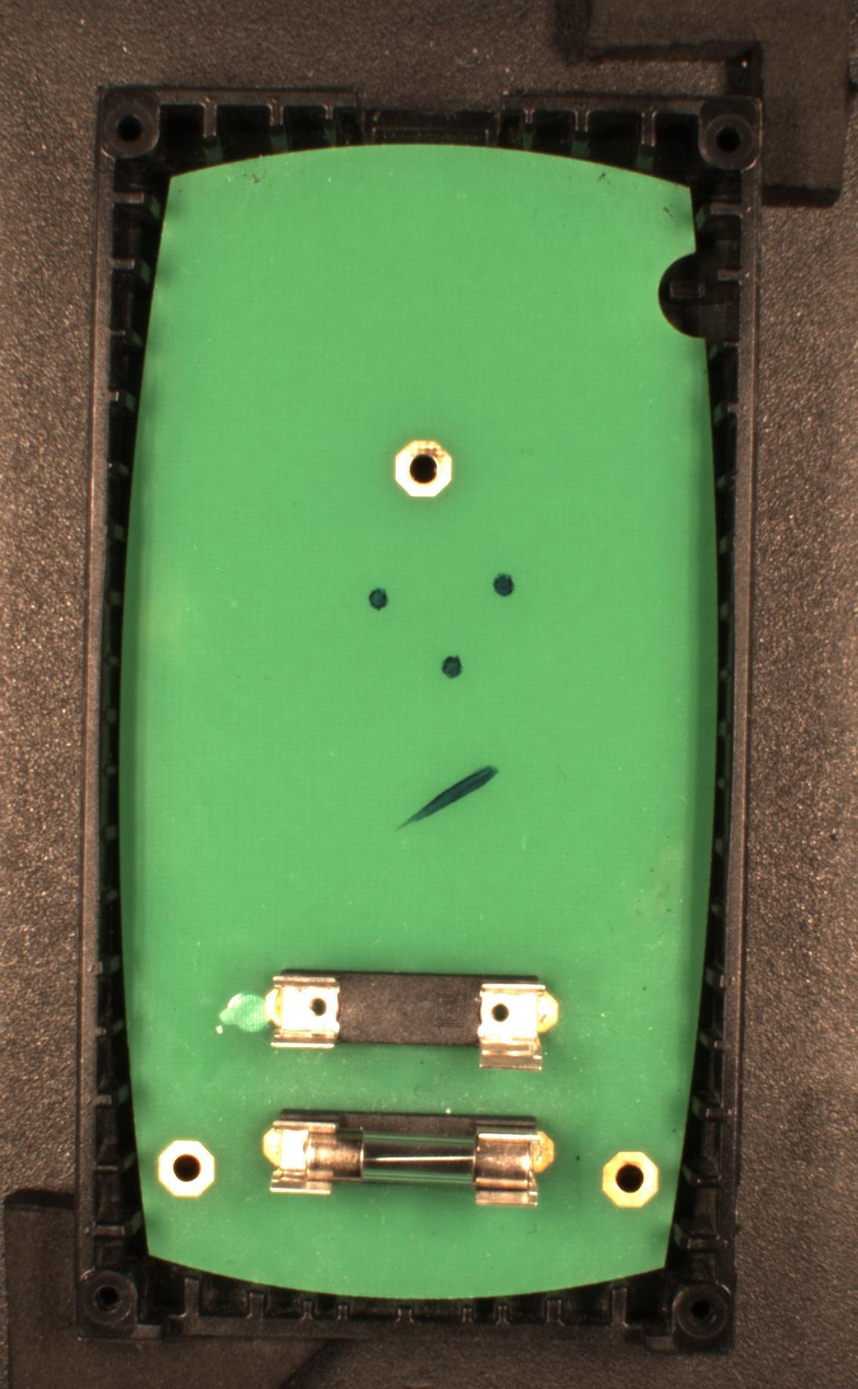Linijsko Ostecene: (394, 762, 502, 833)
Nepostojanje osiguraca: (262, 967, 561, 1073)
Tockasto Ostecenje: (490, 570, 519, 599), (440, 653, 464, 680), (367, 586, 389, 612)
